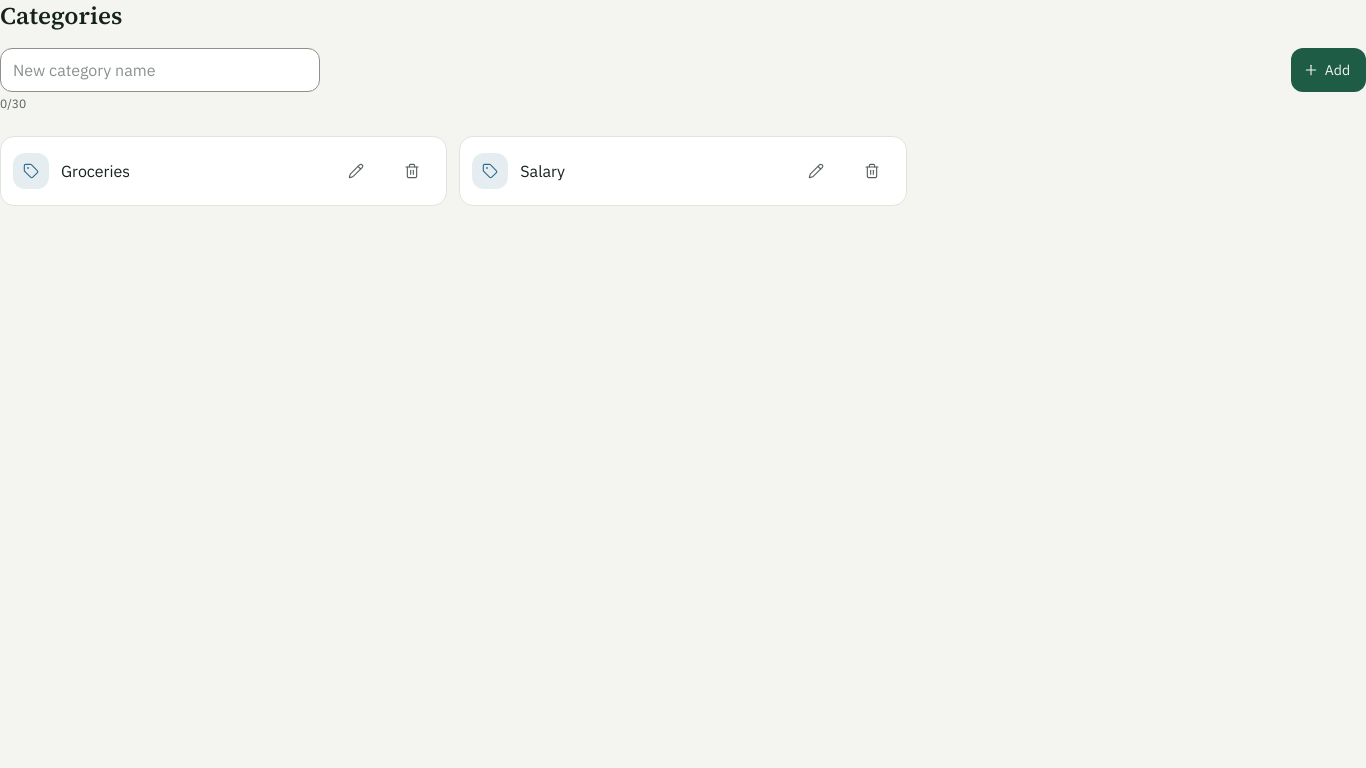
Test: CategoriesPage stale edit-error › clears a failed-edit error when starting a new edit
Check: the text "Groceries" is shown, box [61,161,130,181]
Click the button named "Edit" in the row of "Groceries" at {"x": 356, "y": 171}, box [334,149,378,193]
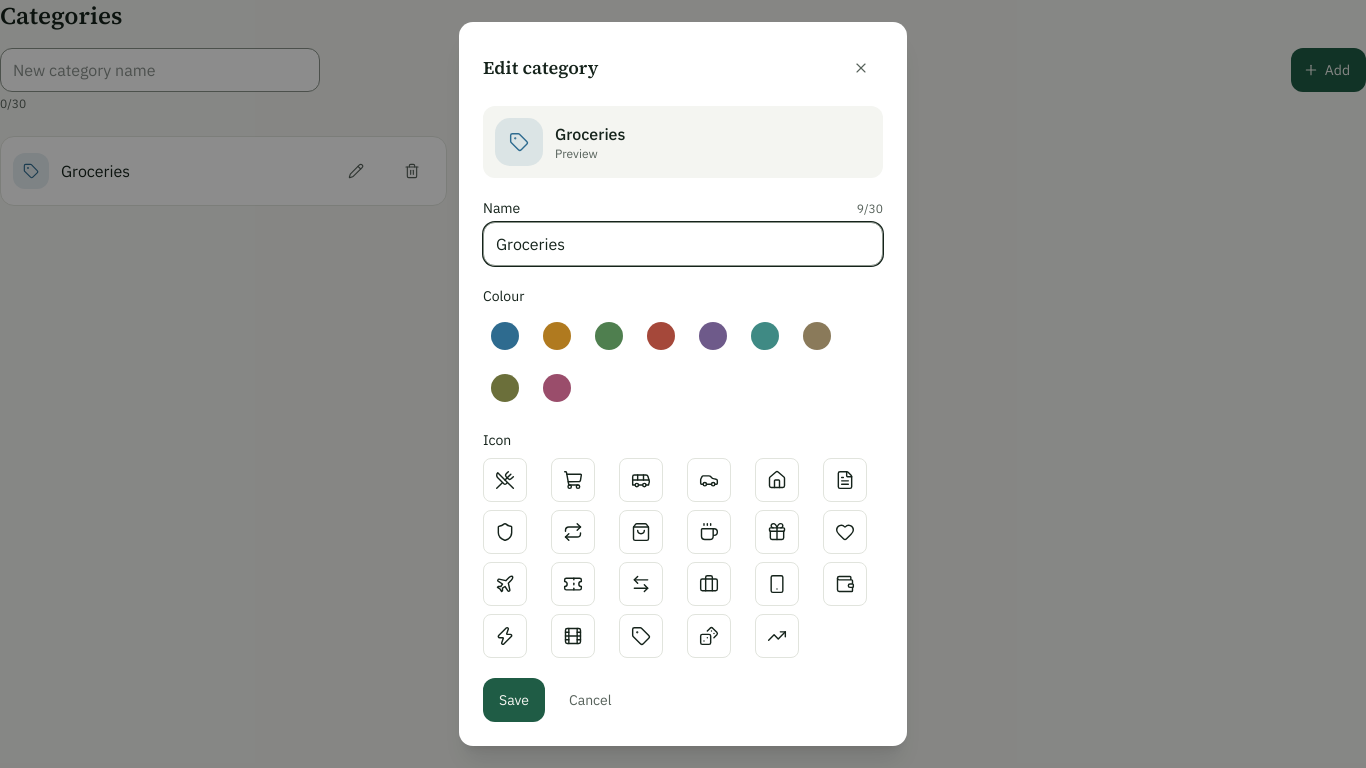
Replace the text in the field showing "Groceries" with "Food" at {"x": 683, "y": 244}, box [483,222,883,266]
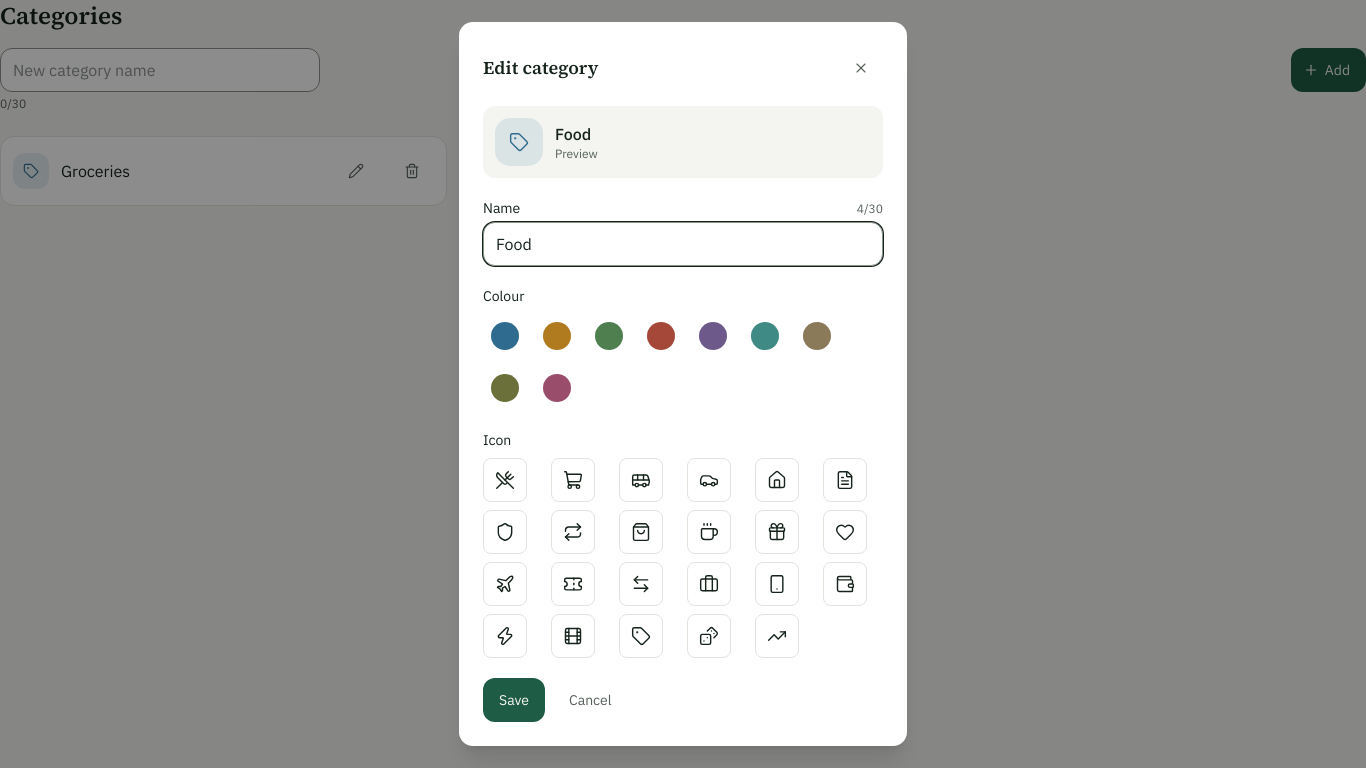
Click the button "Save" at {"x": 514, "y": 700}, box [483,678,545,722]
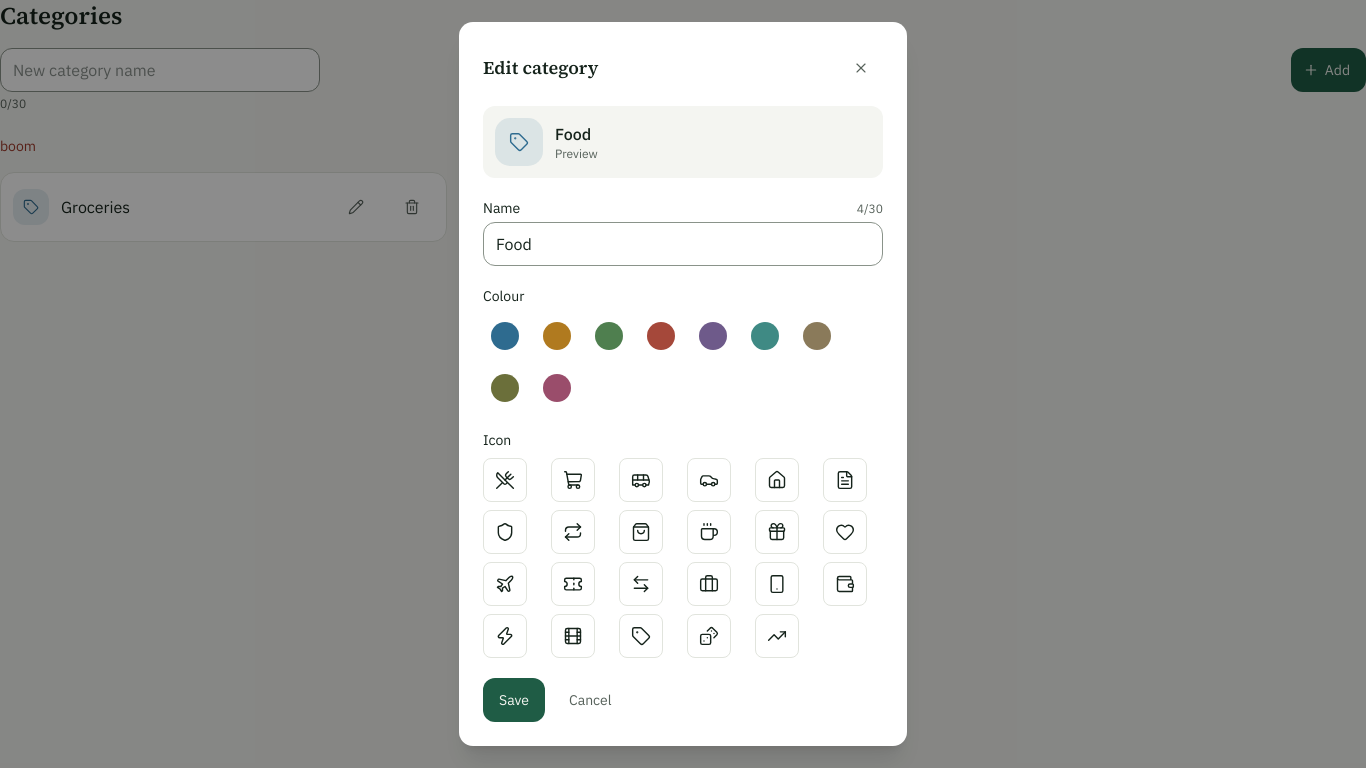
Check: the text "boom" is shown, box [0,137,36,155]
Click the button "Cancel" at {"x": 590, "y": 700}, box [561,678,620,722]
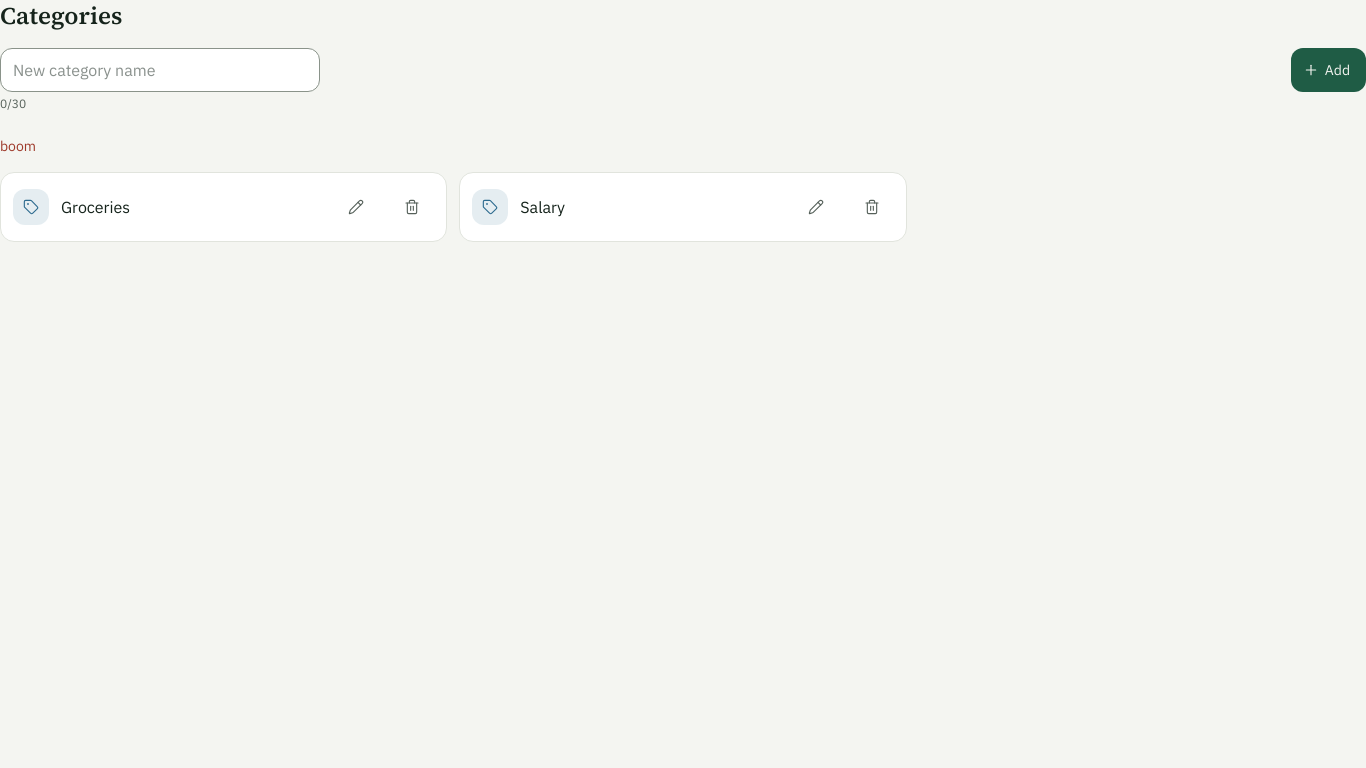
Click the button named "Edit" in the row of "Salary" at {"x": 816, "y": 207}, box [794,185,838,229]
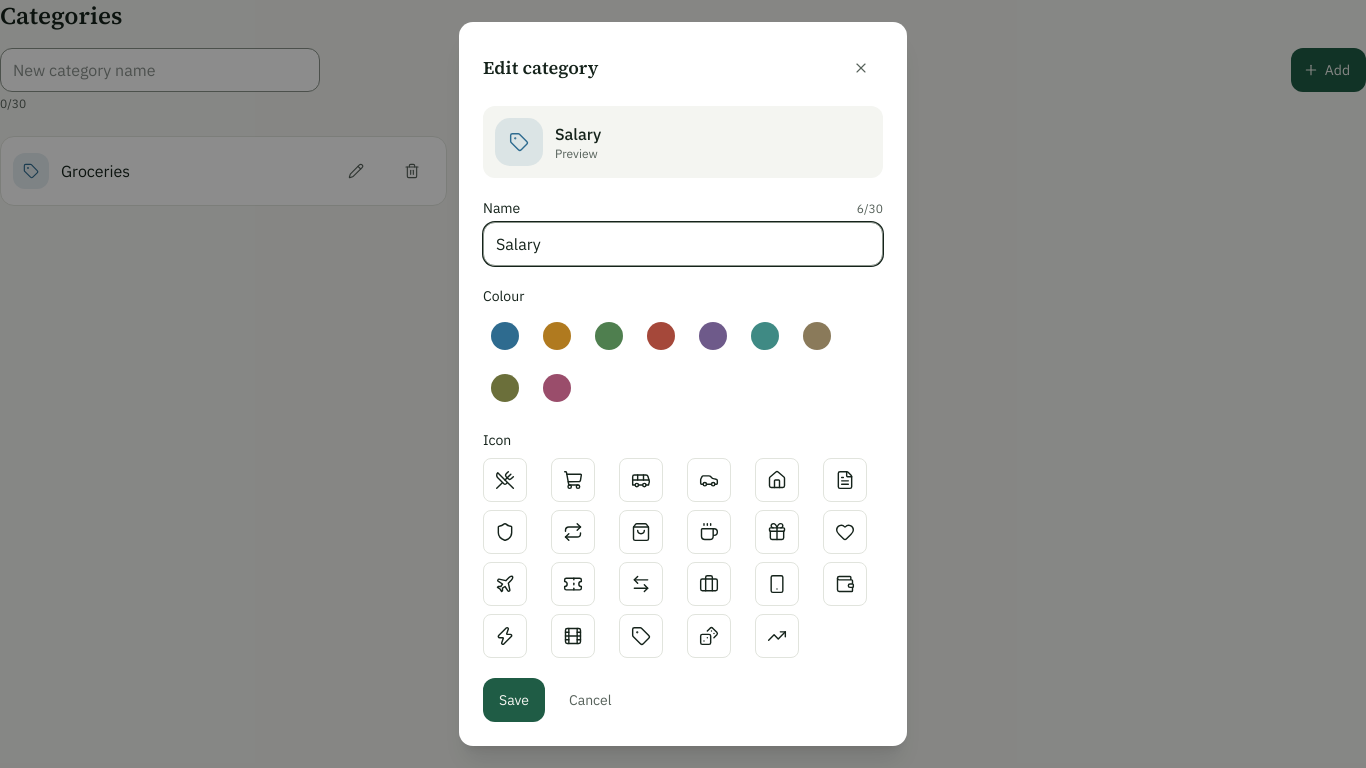
Check: the text "boom" is gone
